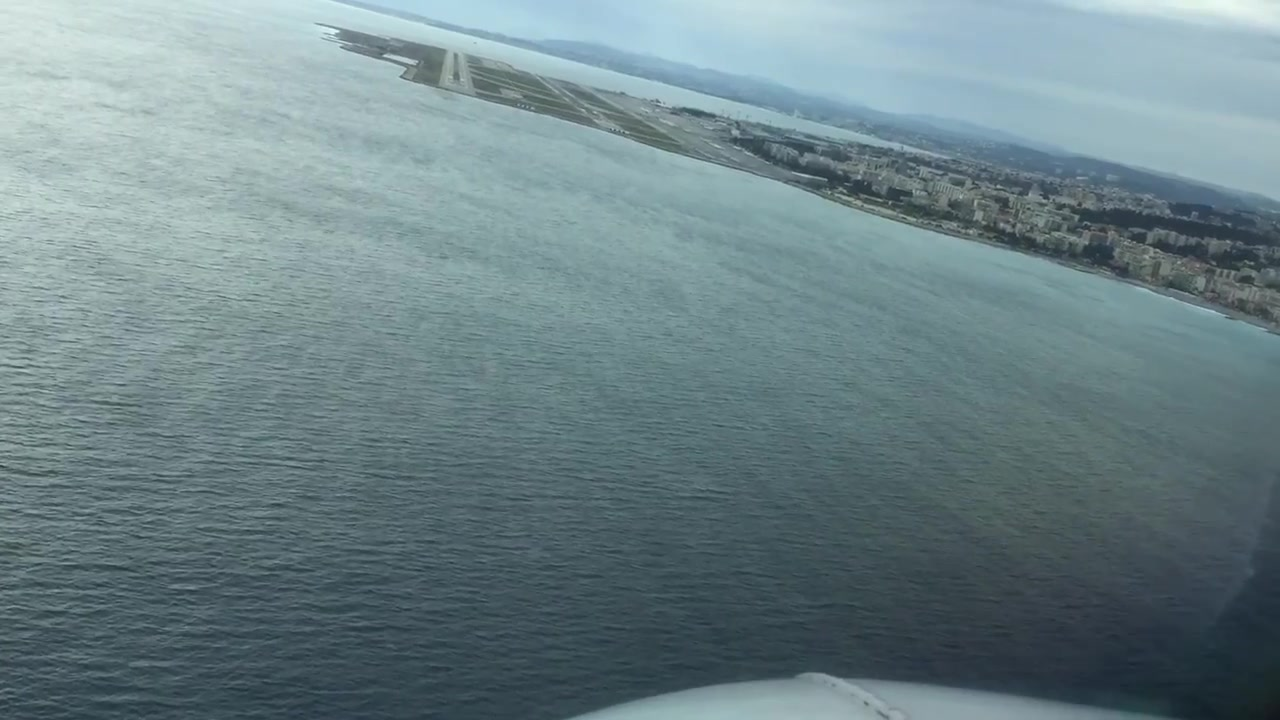runway: (536, 73, 625, 134), (437, 47, 475, 97)
